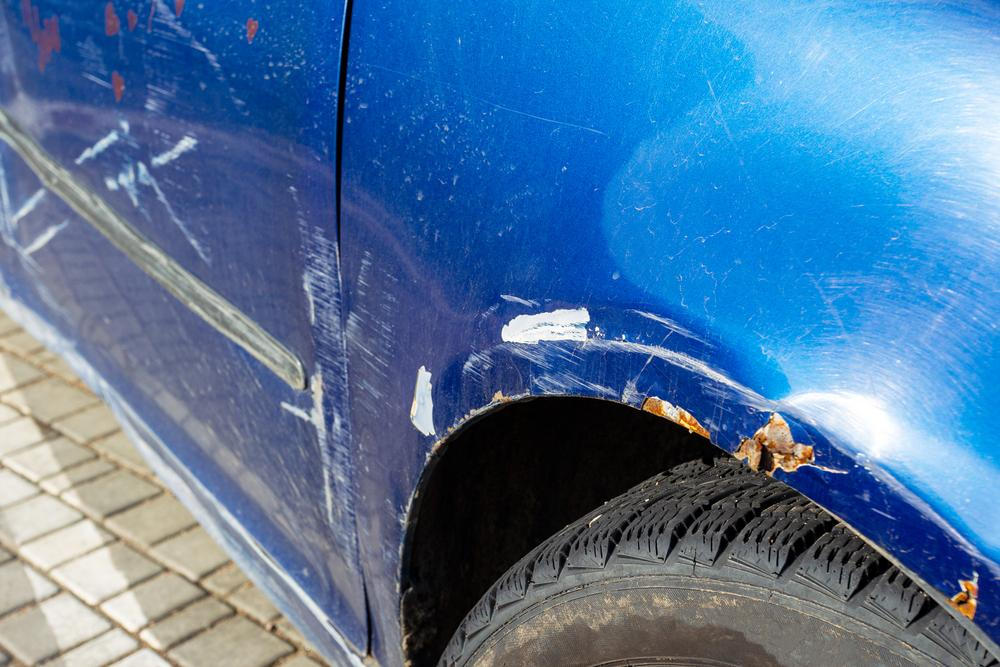scratch: (70, 2, 364, 589), (456, 288, 825, 458), (339, 243, 404, 592)
